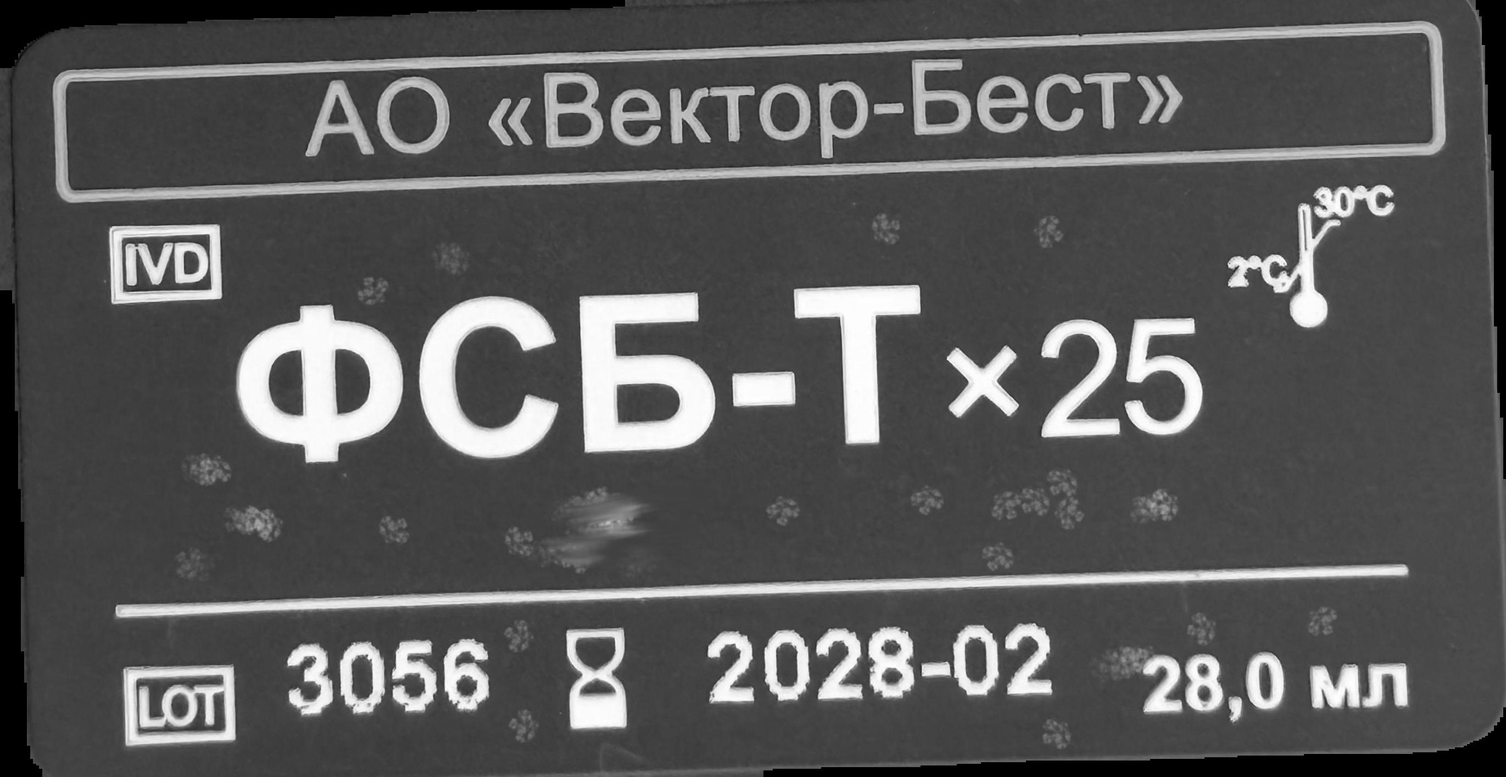something: (1222, 179, 1399, 332), (104, 221, 227, 305), (118, 663, 239, 745), (560, 626, 628, 734)
text: (235, 283, 1205, 467), (301, 57, 1183, 163), (702, 626, 1060, 706), (1138, 651, 1411, 723), (284, 637, 493, 713)
